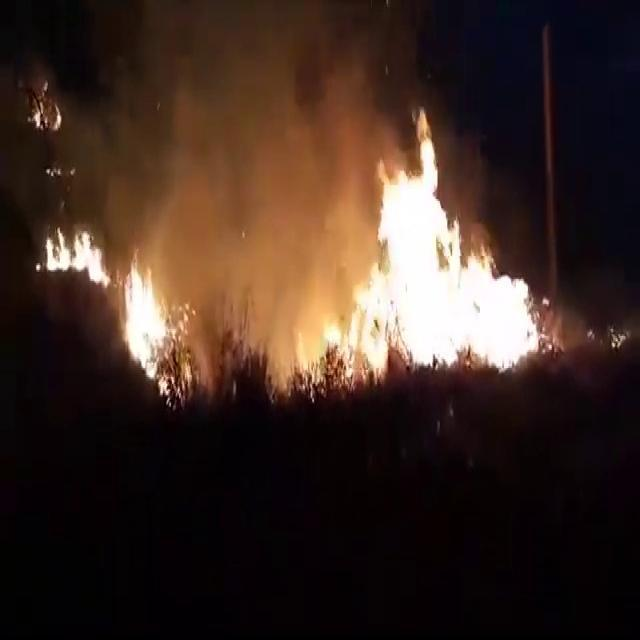Fire: (297, 140, 541, 364), (120, 258, 186, 397), (45, 226, 110, 286), (28, 78, 63, 134)
Smoke: (54, 1, 495, 362)
